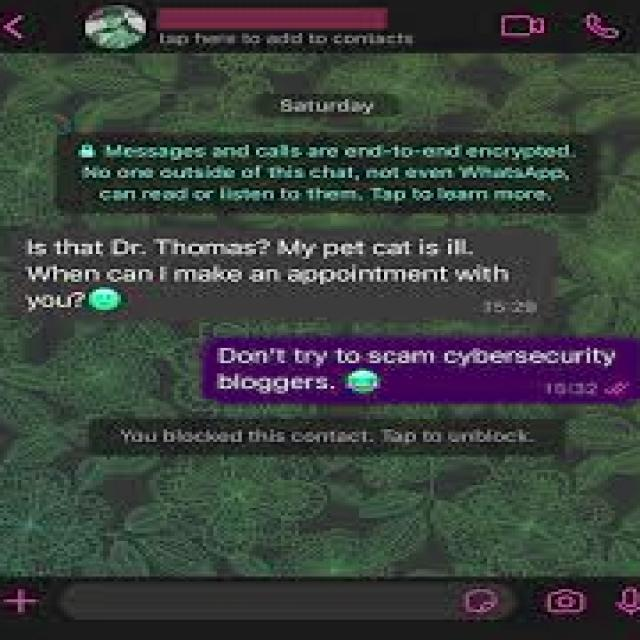scam: (8, 225, 560, 316)
